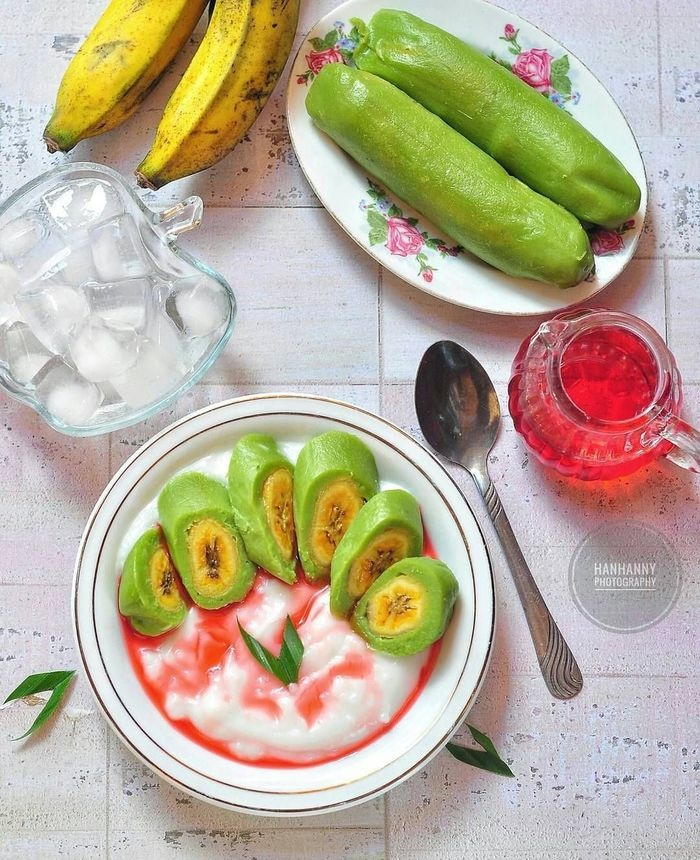pisang_ijo: (161, 481, 253, 610), (353, 549, 456, 649)
